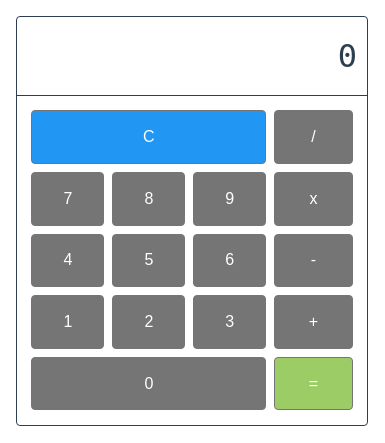
adds two double-digit vals and renders correct result
Click the button with test id "1": point(68, 322) [31,295,104,349]
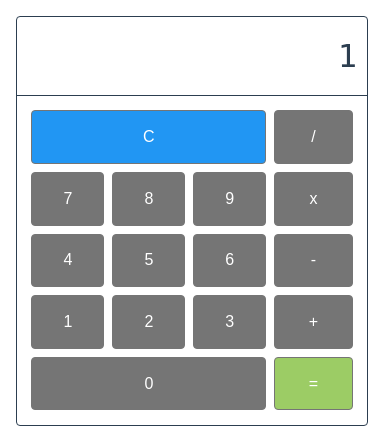
Click the button with test id "1": point(68, 322) [31,295,104,349]
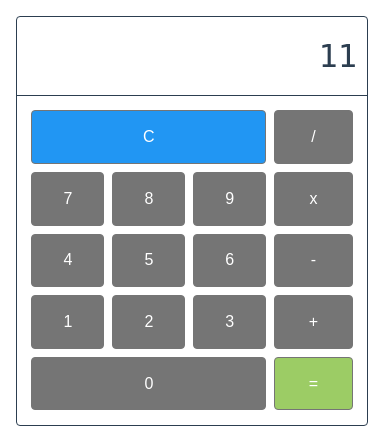
Click the button with test id "+": point(313, 322) [274,295,353,349]
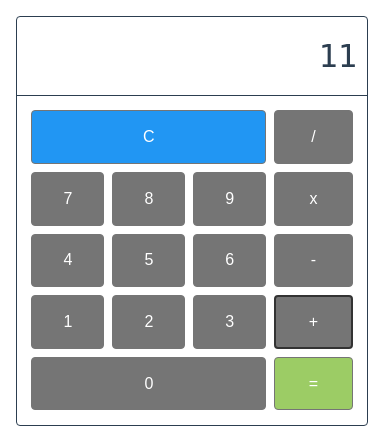
Click the button with test id "2": point(149, 322) [112,295,185,349]
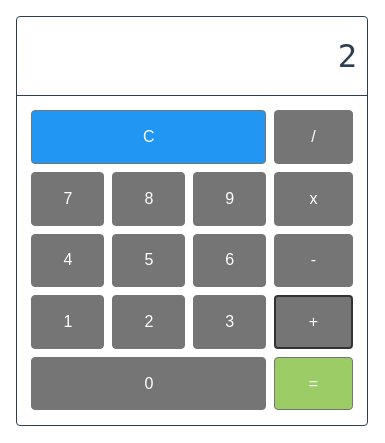
Click the button with test id "1": point(68, 322) [31,295,104,349]
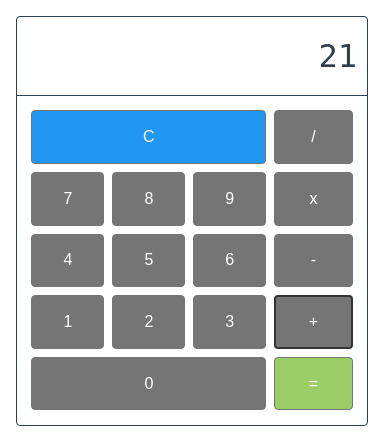
Click the button with test id "=": point(313, 384) [274,357,353,410]
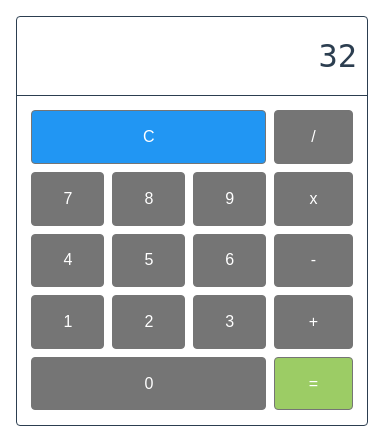
Check: the text with test id "displayValue" reads "32", box [318,37,357,75]
